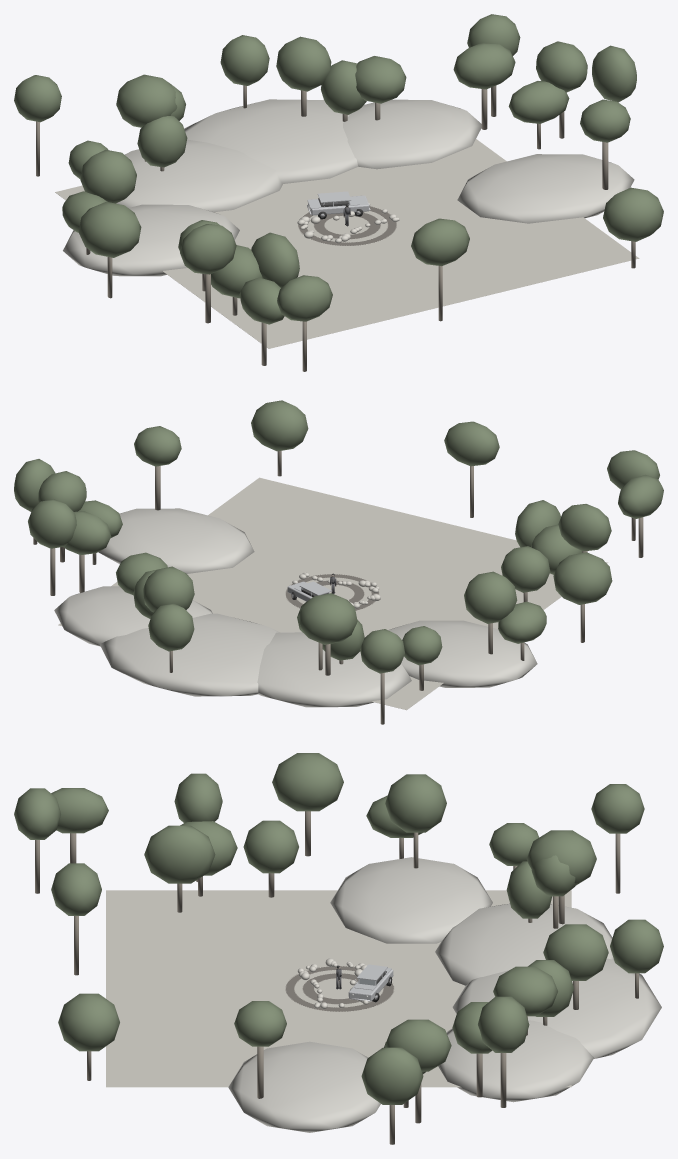
3 renders of one model, top to bottom at view 1: azimuth 30°, elevation 25°; view 2: azimuth 150°, elevation 25°; view 3: azimuth 270°, elevation 25°, orthographic. The views are drawn at different scales.
Visible parts, largest first — view 1: pad, haze_1, haze_4, haze_0, haze_3, haze_2, tree_crown_14, tree_crown_20, tree_crown_21, tree_crown_24, tree_crown_5, tree_crown_11 (+18 smaller); view 2: pad, haze_1, haze_0, haze_4, haze_2, haze_3, tree_crown_14, tree_crown_21, tree_crown_20, tree_crown_5, tree_crown_8, tree_crown_6 (+18 smaller); view 3: pad, haze_2, haze_4, haze_1, haze_3, haze_0, tree_crown_14, tree_crown_17, tree_crown_5, tree_crown_20, tree_crown_19, tree_crown_24 (+19 smaller).
Part boxes in pixels (x1,y1,x2,y2): pad: (55, 139, 639, 348); haze_1: (184, 99, 357, 183); haze_4: (457, 154, 634, 223); haze_0: (116, 139, 282, 212); haze_3: (343, 99, 481, 169); haze_2: (63, 204, 239, 276); tree_crown_14: (78, 201, 141, 257); tree_crown_20: (603, 187, 663, 241); tree_crown_21: (116, 74, 177, 127); tree_crown_24: (276, 36, 331, 91); tree_crown_5: (80, 149, 136, 203); tree_crown_11: (453, 43, 515, 89); pad: (58, 477, 607, 710); haze_1: (100, 613, 279, 696); haze_0: (257, 632, 411, 707); haze_4: (98, 508, 254, 573); haze_2: (388, 620, 537, 687); haze_3: (54, 586, 212, 646); tree_crown_14: (553, 552, 612, 604); tree_crown_21: (298, 593, 357, 644); tree_crown_20: (251, 400, 308, 451); tree_crown_5: (464, 571, 517, 623); tree_crown_8: (558, 504, 611, 551); tree_crown_6: (444, 421, 499, 466); pad: (106, 890, 571, 1087); haze_2: (330, 857, 492, 943); haze_4: (228, 1041, 380, 1132); haze_1: (452, 958, 661, 1058); haze_3: (438, 1020, 593, 1102); haze_0: (435, 903, 613, 985); tree_crown_14: (272, 753, 343, 811); tree_crown_17: (144, 825, 215, 883); tree_crown_5: (385, 774, 446, 832); tree_crown_20: (58, 993, 119, 1051); tree_crown_19: (361, 1047, 423, 1104); tree_crown_24: (543, 924, 608, 980).
Size of what is drawn, in the model's own units: 50.69 by 9.55 by 44.65.
